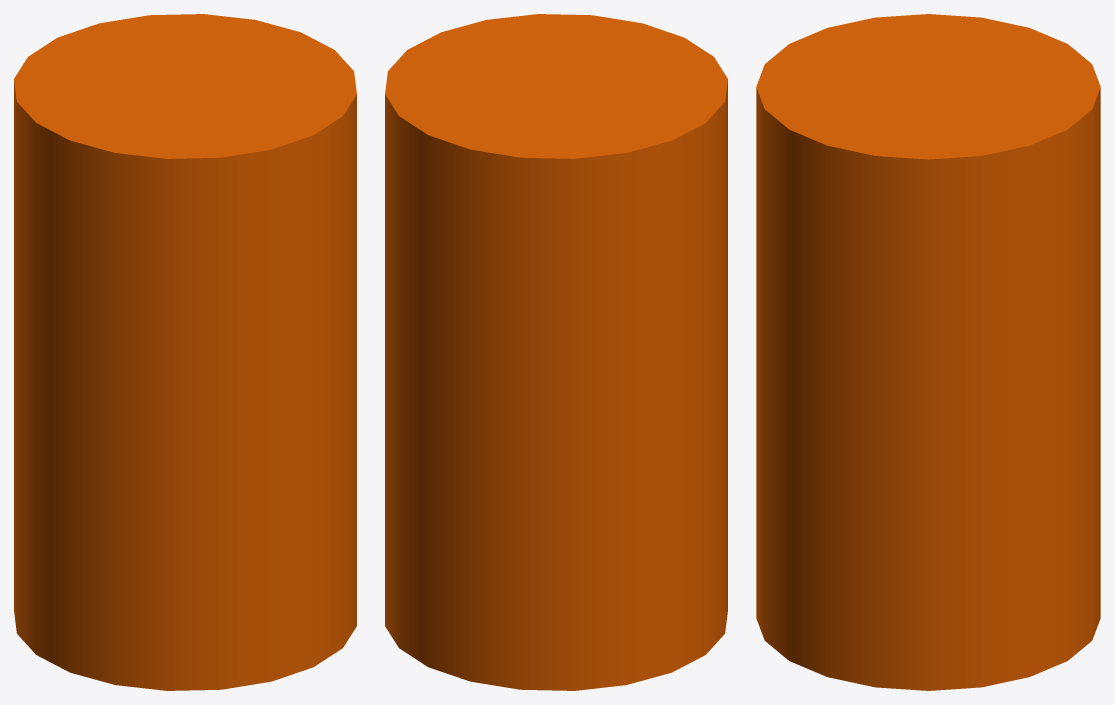
The model's file is Amino Acid (1).fbx.
The picture shows the model from 3 angles, left to right: view 1: azimuth 30°, elevation 25°; view 2: azimuth 150°, elevation 25°; view 3: azimuth 270°, elevation 25°; orthographic projection.
Parts seen in each view (by area): view 1: pCylinder1; view 2: pCylinder1; view 3: pCylinder1.
Boxes of the visible parts, <box> form: pCylinder1: <box>14,14,356,690</box>; pCylinder1: <box>385,14,727,690</box>; pCylinder1: <box>756,14,1100,690</box>.
Size of the model in its own units: 0.7432 by 1.27 by 0.7432.
